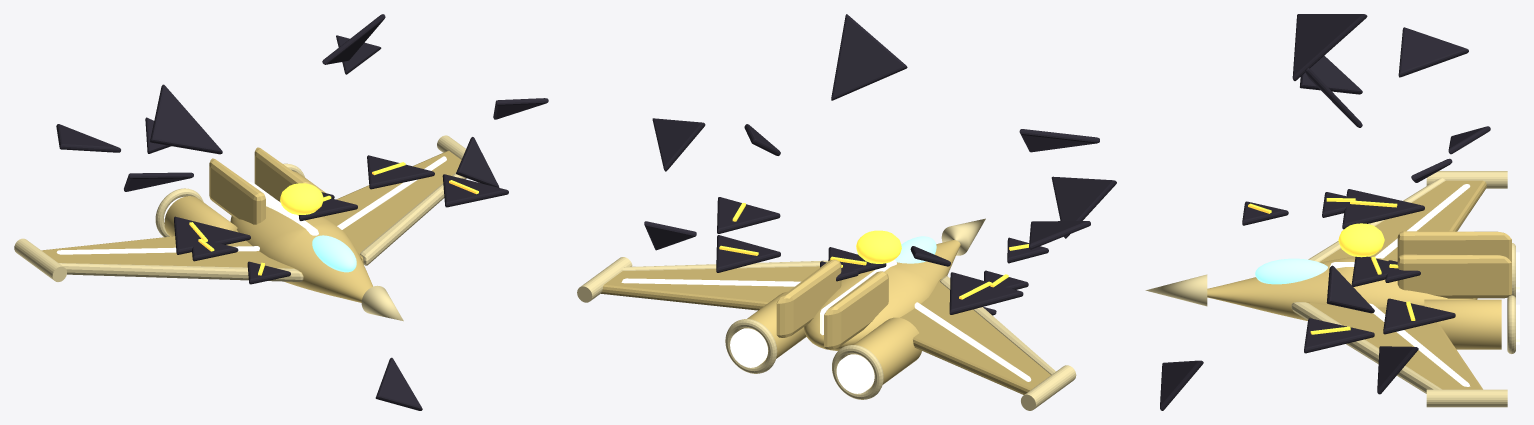
Rendered from keeper_umbra_unmasked.glb.
The picture shows the model from 3 angles, left to right: view 1: azimuth 30°, elevation 25°; view 2: azimuth 150°, elevation 25°; view 3: azimuth 270°, elevation 25°; orthographic projection. The views are drawn at different scales.
Parts seen in each view (by area): view 1: Sphere; view 2: Sphere; view 3: Sphere.
Boxes of the visible parts, box(x1,y1,x2,y2) form: Sphere: box(14, 14, 548, 410); Sphere: box(577, 14, 1116, 410); Sphere: box(1145, 14, 1519, 410).
Bounding box in the file's own units: 7.13 × 5.1 × 4.82.
